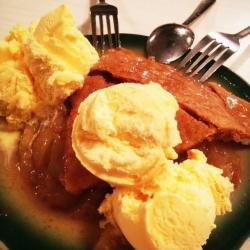omelette: (2, 9, 92, 122)
